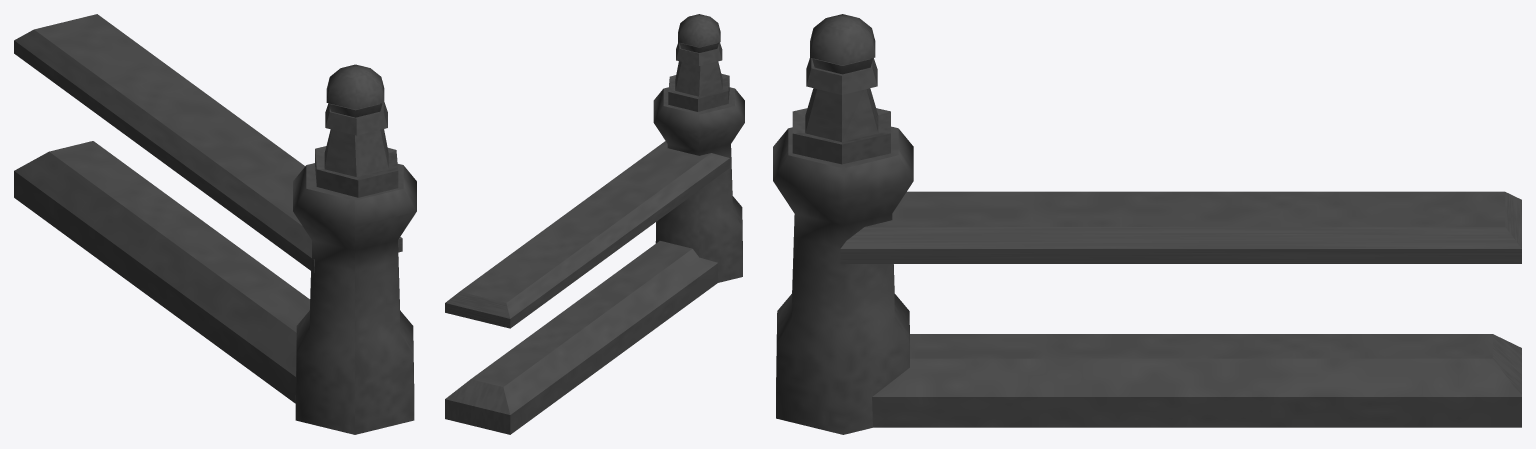
Rendered from Barandilla.fbx.
The picture shows the model from 3 angles, left to right: view 1: azimuth 30°, elevation 25°; view 2: azimuth 150°, elevation 25°; view 3: azimuth 270°, elevation 25°; orthographic projection. The views are drawn at different scales.
Parts seen in each view (by area): view 1: Cuadrado_2, pasted__Tower, Cuadrado_1, pasted__pasted__Pawn, pasted__pasted__pSphere1; view 2: Cuadrado_2, Cuadrado_1, pasted__Tower, pasted__pasted__Pawn, pasted__pasted__pSphere1; view 3: Cuadrado_2, Cuadrado_1, pasted__Tower, pasted__pasted__Pawn, pasted__pasted__pSphere1.
Boxes of the visible parts, x1,y1,x2,y2 form: Cuadrado_2: (14, 141, 309, 403); pasted__Tower: (293, 163, 416, 434); Cuadrado_1: (14, 14, 402, 272); pasted__pasted__Pawn: (315, 102, 398, 197); pasted__pasted__pSphere1: (326, 64, 384, 117); Cuadrado_2: (445, 241, 718, 434); Cuadrado_1: (445, 141, 731, 328); pasted__Tower: (653, 87, 744, 282); pasted__pasted__Pawn: (668, 42, 729, 111); pasted__pasted__pSphere1: (678, 14, 720, 52); Cuadrado_2: (872, 334, 1521, 427); Cuadrado_1: (840, 191, 1521, 263); pasted__Tower: (773, 126, 913, 434); pasted__pasted__Pawn: (792, 57, 890, 164); pasted__pasted__pSphere1: (810, 14, 875, 74).
Bounding box in the file's own units: 1.33 × 3.47 × 6.13.
